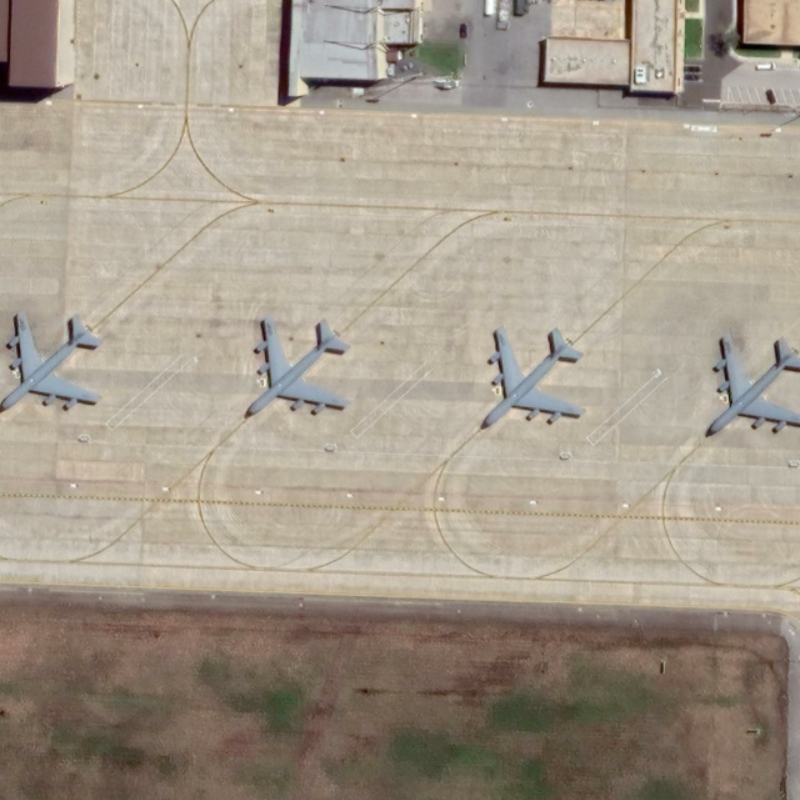A14: (1, 300, 108, 425), (237, 312, 354, 426), (476, 321, 587, 436), (699, 323, 800, 444)
